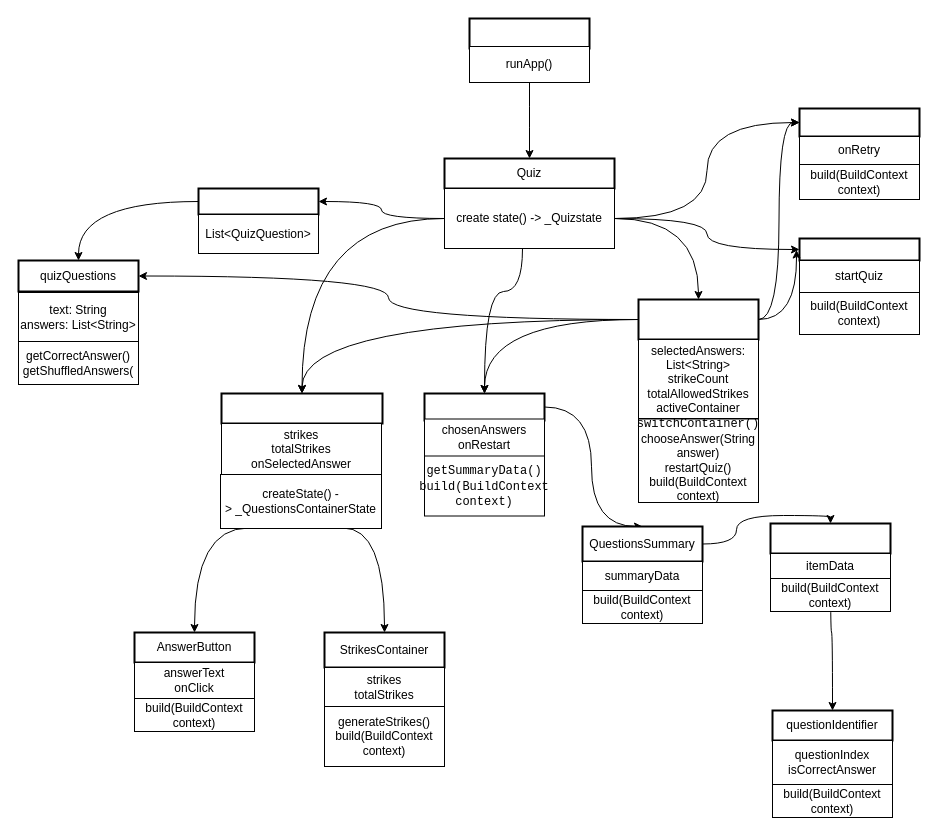
This 937x835 diagram has some shape labels left out. The centre of each missing label's shape, as x and y in pixels:
main: (x=529, y=33)
Questions: (x=258, y=201)
questionsContainer: (x=301, y=408)
QuizState: (x=698, y=319)
ResultsContainer: (x=484, y=406)
Retry container: (x=859, y=122)
StartContainer: (x=859, y=249)
summaryItem: (x=830, y=538)
